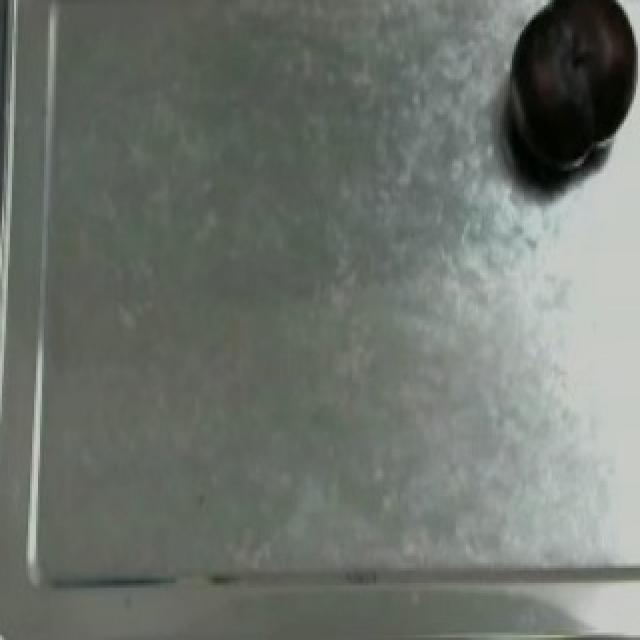Fruit: (492, 0, 640, 193)
